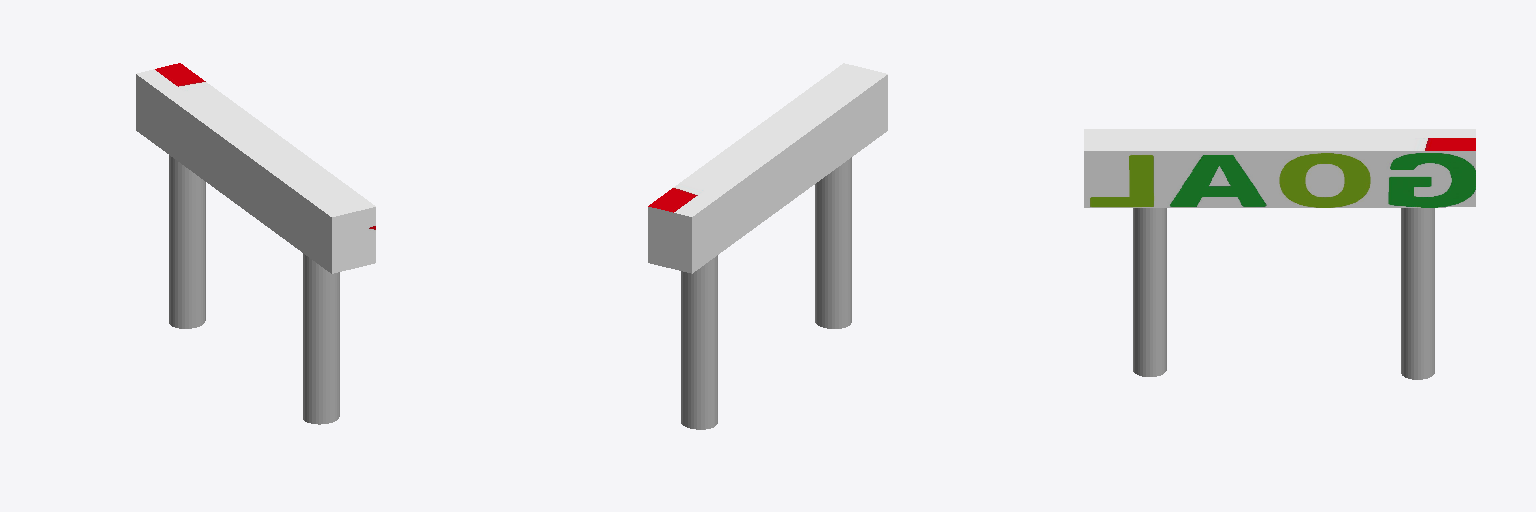
The picture shows the model from 3 angles: view 1: azimuth 30°, elevation 25°; view 2: azimuth 150°, elevation 25°; view 3: azimuth 270°, elevation 25°; orthographic projection.
Visible parts, largest first — view 1: Cube_Cube.003, Cylinder.001, Cylinder.002; view 2: Cube_Cube.003, Cylinder.001, Cylinder.002; view 3: Cube_Cube.003, Cylinder.001, Cylinder.002.
Part boxes in pixels (x1,y1,x2,y2): Cube_Cube.003: (136,63,375,273); Cylinder.001: (169,155,205,328); Cylinder.002: (303,253,339,424); Cube_Cube.003: (648,63,887,273); Cylinder.001: (681,255,717,429); Cylinder.002: (815,157,851,328); Cube_Cube.003: (1084,129,1475,207); Cylinder.001: (1401,208,1434,379); Cylinder.002: (1133,208,1166,376).
Bounding box in the file's own units: 1.1 × 5.47 × 8.38.
Materials: 3 (1 with a texture image).